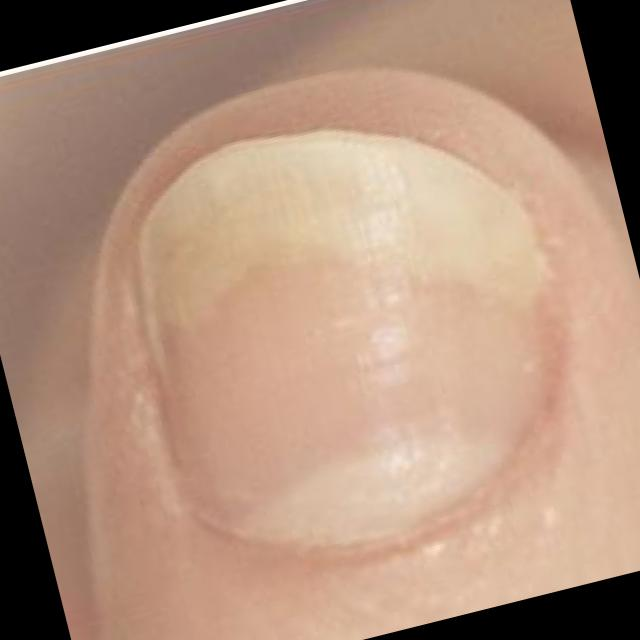Nail: (129, 127, 553, 540)
